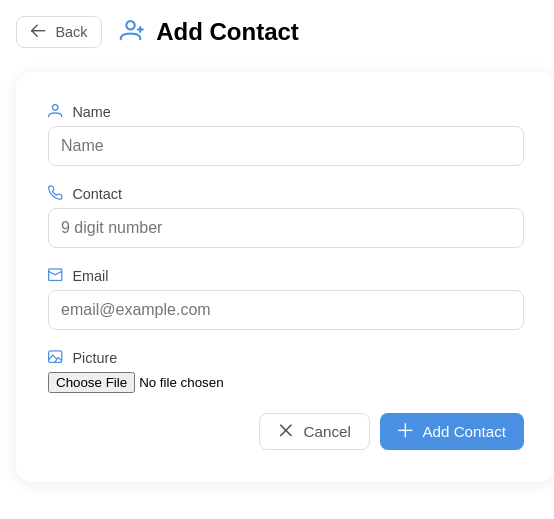
Test case: ContactForm validation › shows error when picture is missing
Type "John Doe" into the field with placeholder "Name" at (286, 146), box [48,126,524,166]
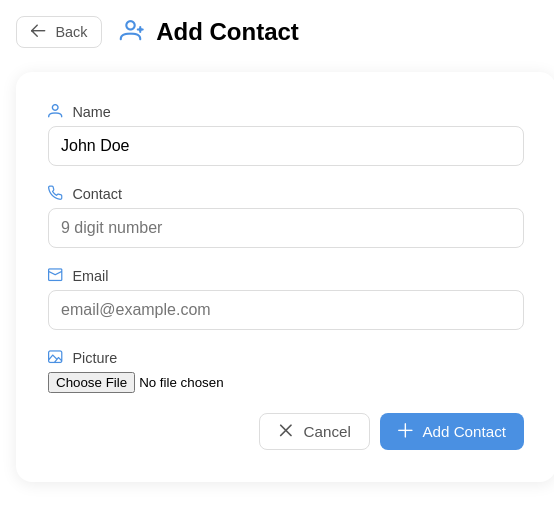
Type "123456789" into the field with placeholder "9 digit number" at (286, 228), box [48,208,524,248]
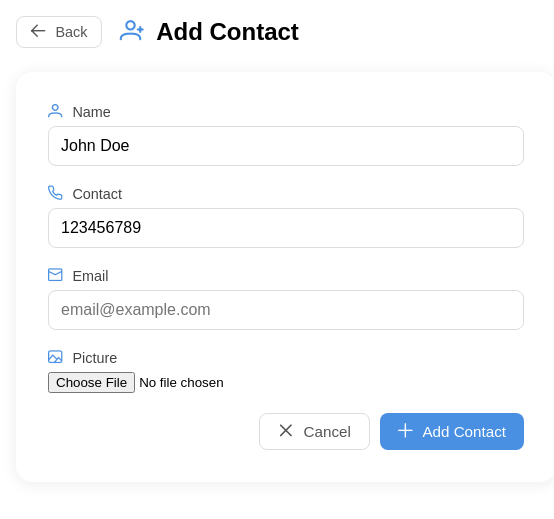
Type "john@example.com" into the field with placeholder "email@example.com" at (286, 310), box [48,290,524,330]
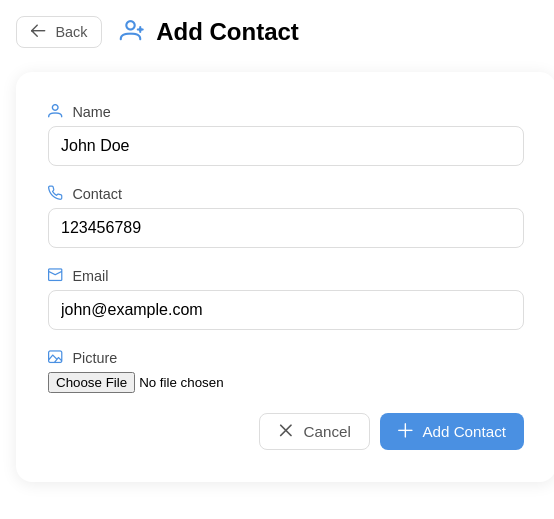
Submit the form, box [48,104,524,450]
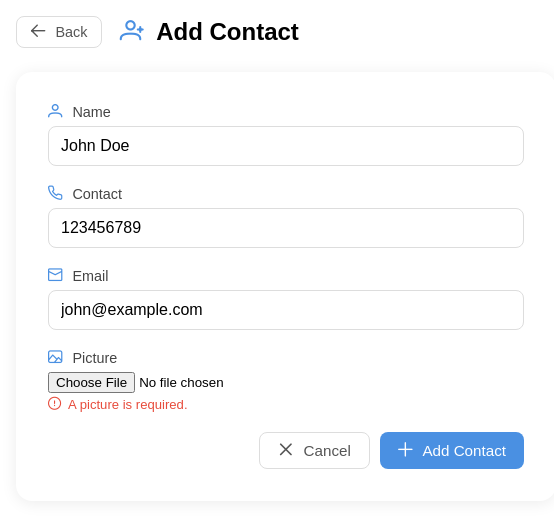
expect the text "A picture is required" is shown: met, box [65,397,188,412]
